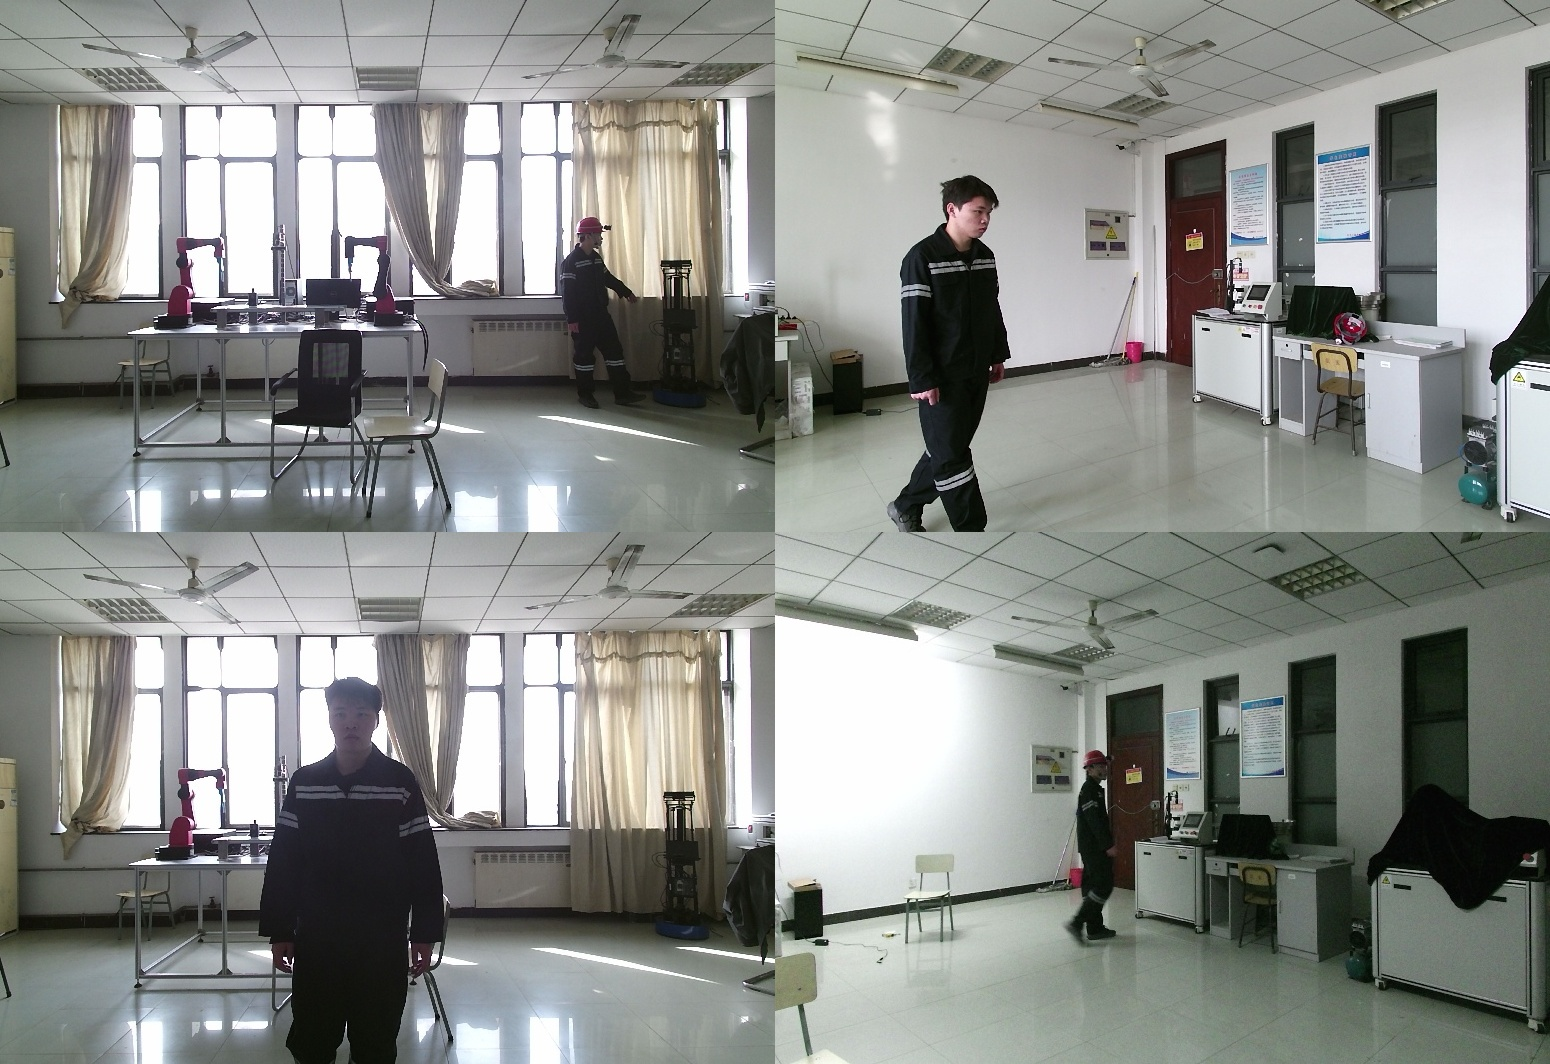person: (268, 678, 458, 1064), (885, 175, 1016, 532), (559, 218, 652, 419), (1055, 752, 1119, 953)
